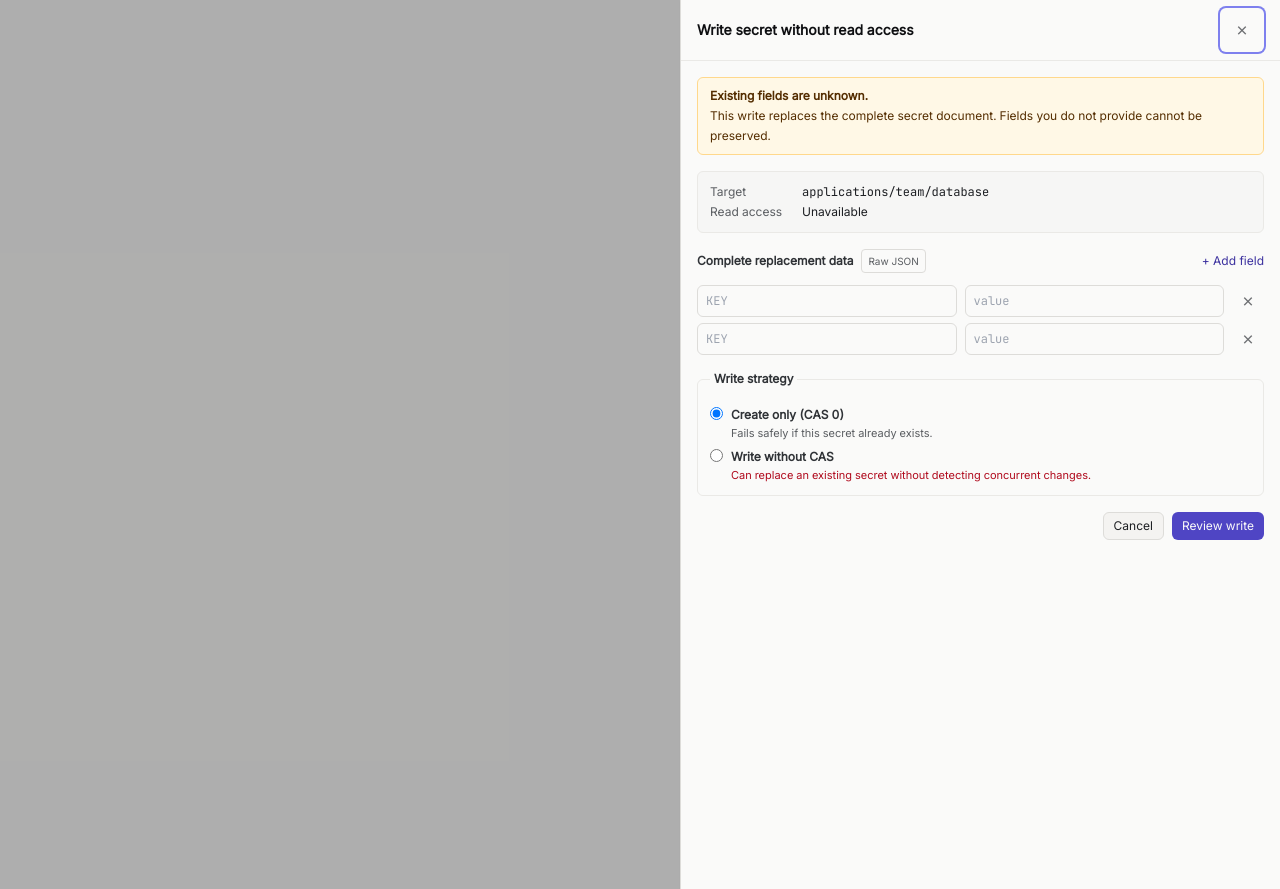
Test: WriteOnlySecretDrawer › rechecks raw JSON immediately before review
Click the button "Raw JSON".
click(894, 261)  # box 862,249 -> 926,273
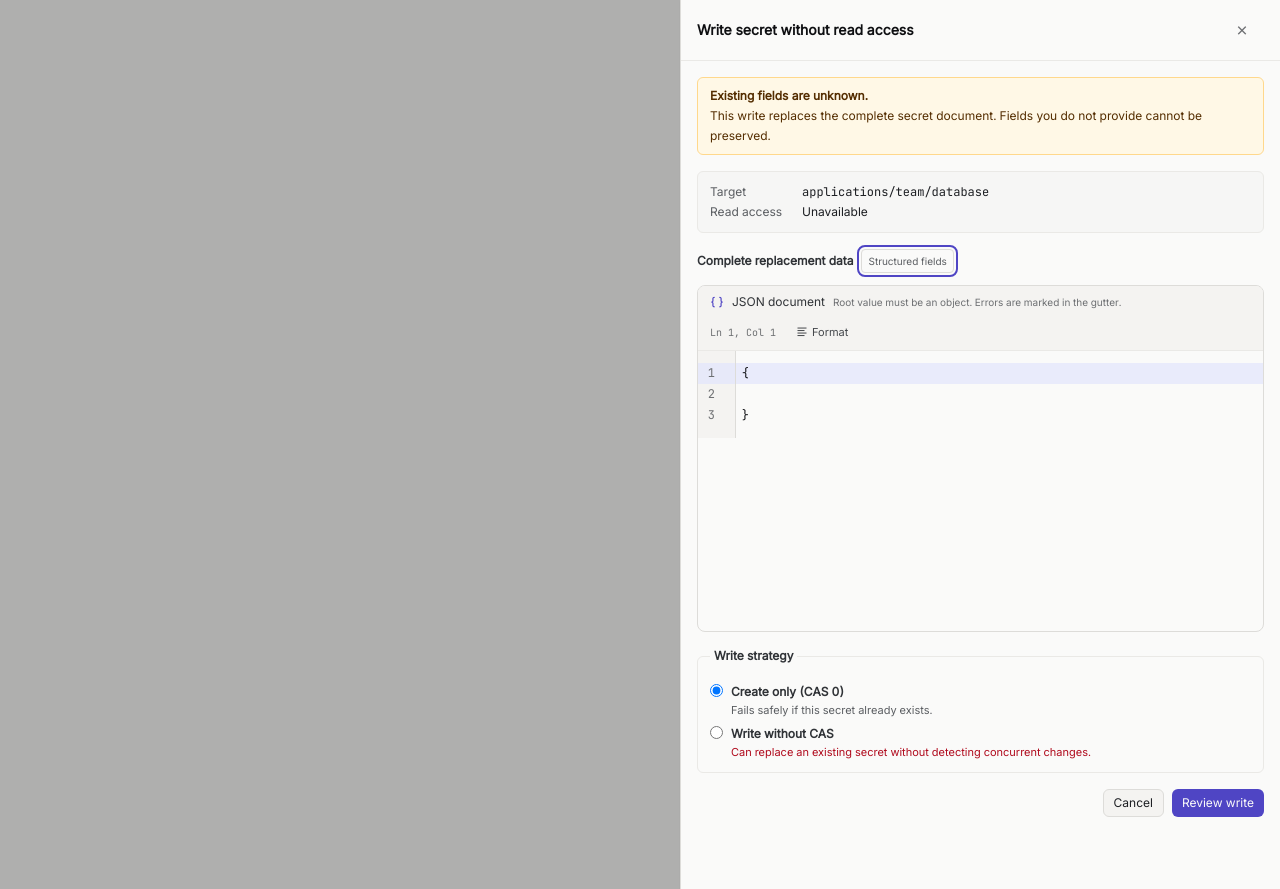
Click the field named "Secret JSON editor".
click(999, 374)  # box 736,351 -> 1263,438
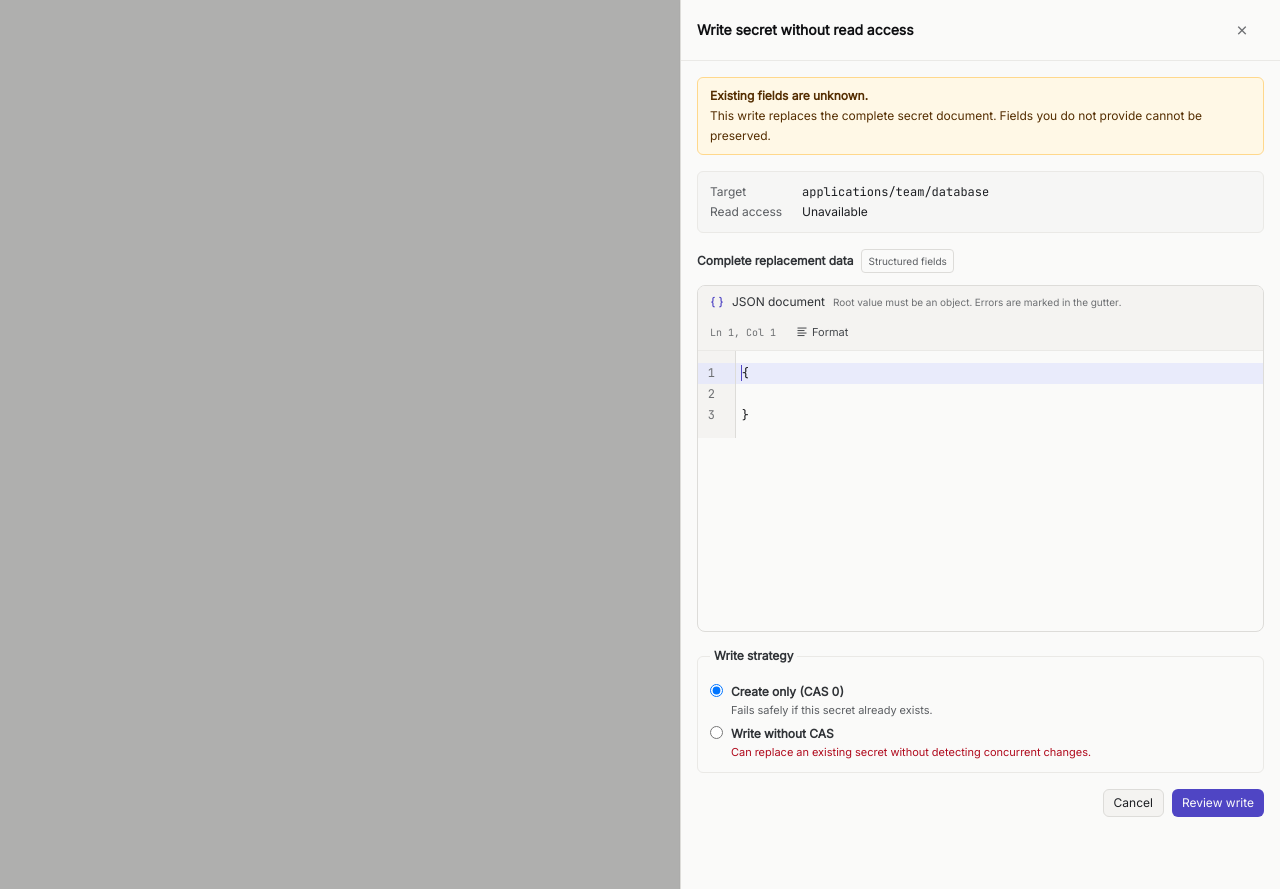
Type keys "{Control>}a{/Control}"
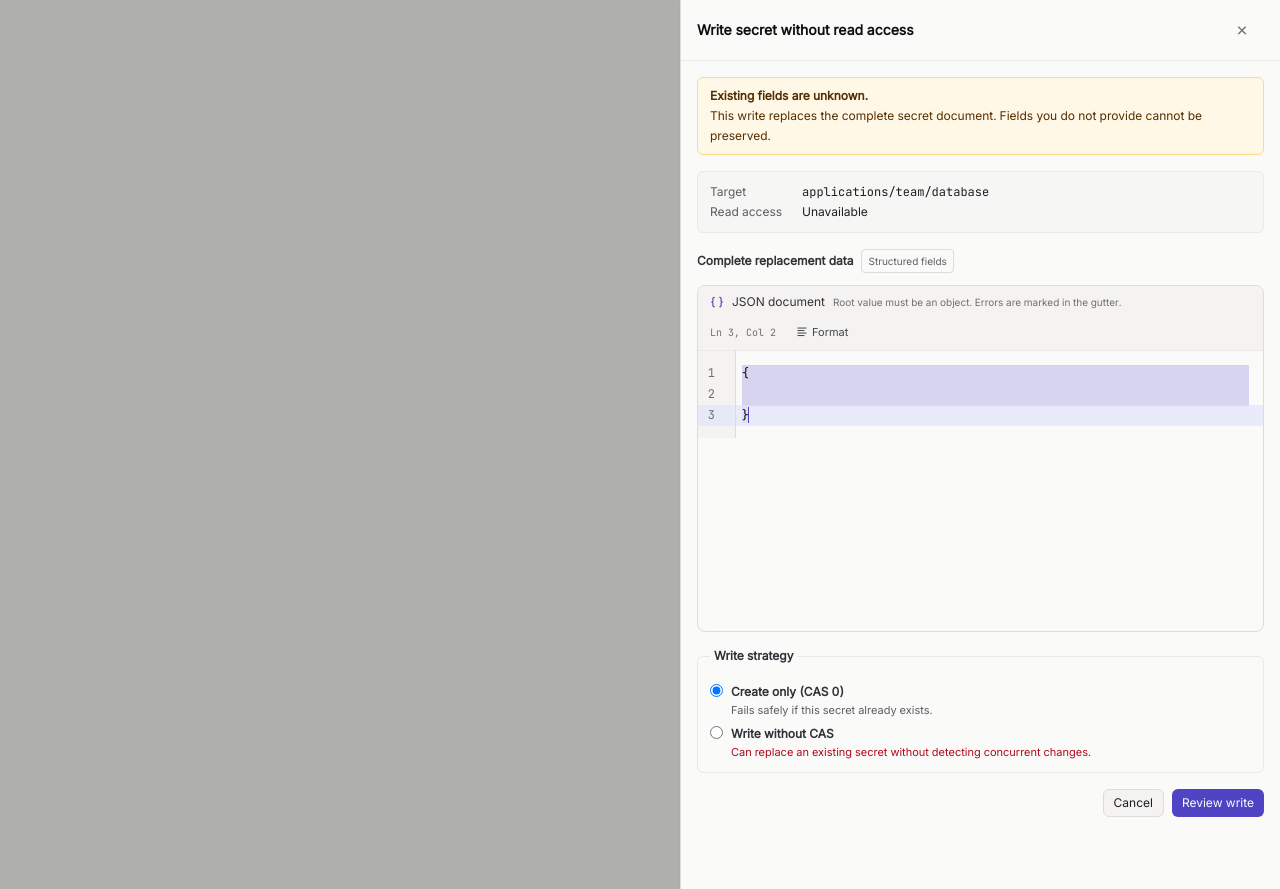
Type keys "{\"token\":}"
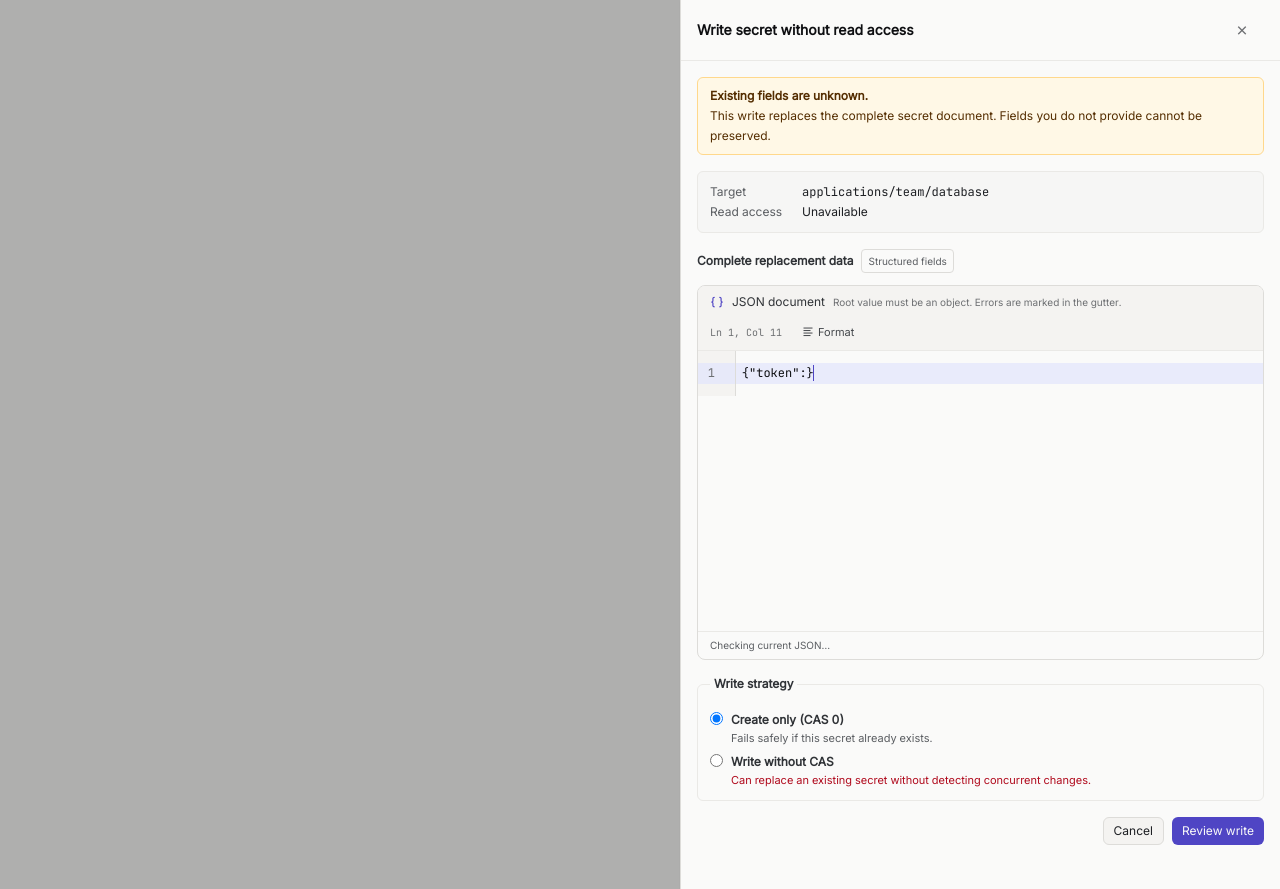
Click the button "Review write".
click(1218, 831)  # box 1172,817 -> 1264,845
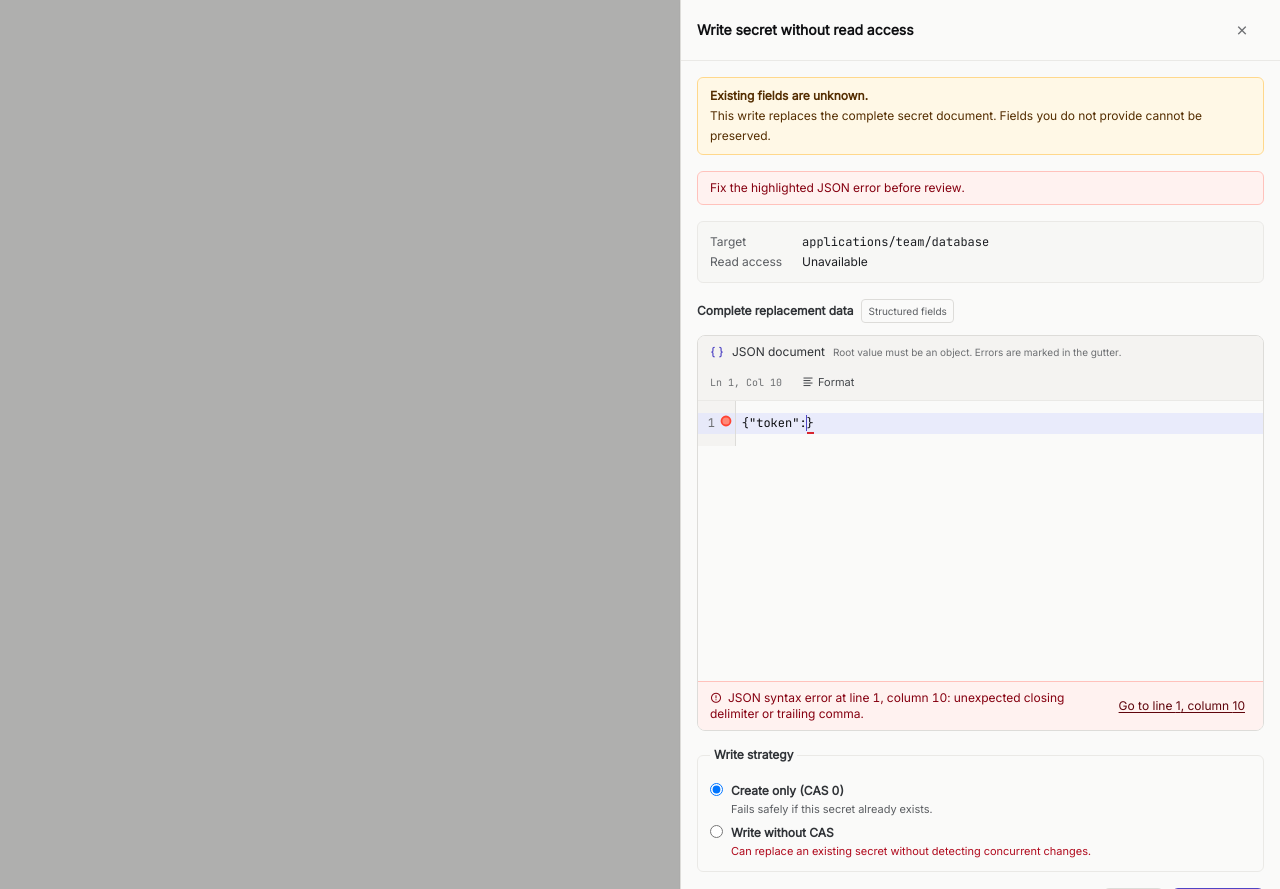
Expected: the text "JSON syntax error" is shown, 710,690 -> 1064,721
Expected: the text "Fix the highlighted JSON error before review." is shown, 710,180 -> 965,195
